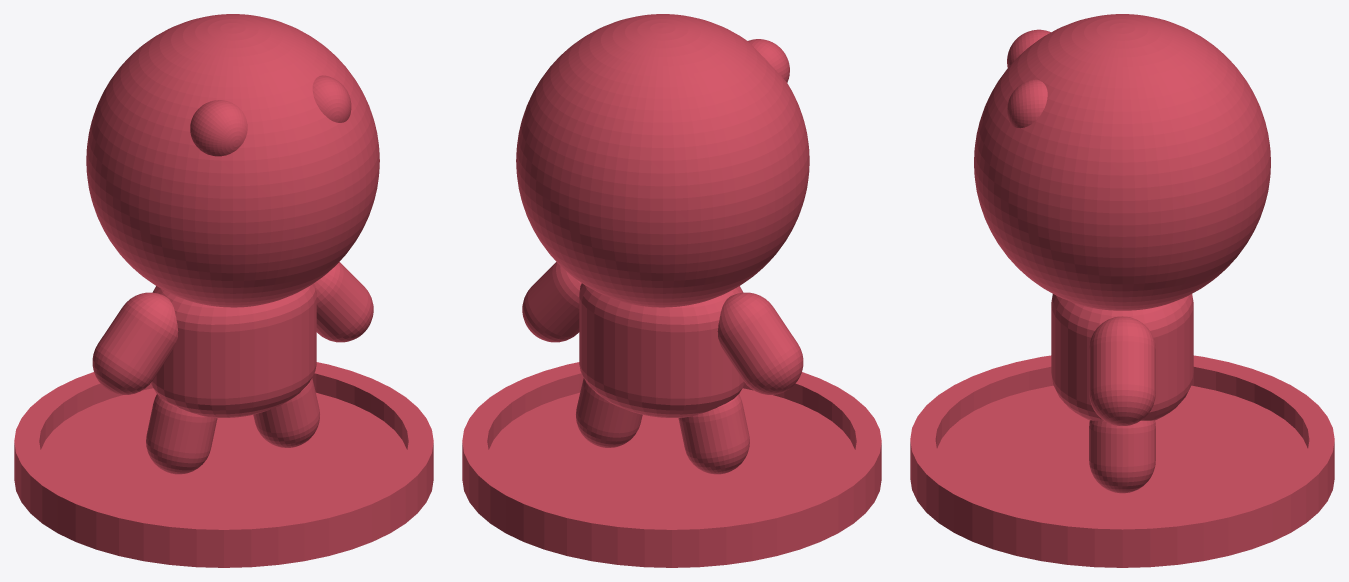
File: Papaka.glb
3 renders of one model, left to right at view 1: azimuth 30°, elevation 25°; view 2: azimuth 150°, elevation 25°; view 3: azimuth 270°, elevation 25°, orthographic.
Visible parts, largest first — view 1: Mesh_Mesh_head_geo.001_lambert2SG.001; view 2: Mesh_Mesh_head_geo.001_lambert2SG.001; view 3: Mesh_Mesh_head_geo.001_lambert2SG.001.
Part boxes in pixels (x1,y1,x2,y2): Mesh_Mesh_head_geo.001_lambert2SG.001: (14,14,433,567); Mesh_Mesh_head_geo.001_lambert2SG.001: (462,14,881,567); Mesh_Mesh_head_geo.001_lambert2SG.001: (910,14,1334,567).
Bounding box in the file's own units: 20 × 23.64 × 20.
